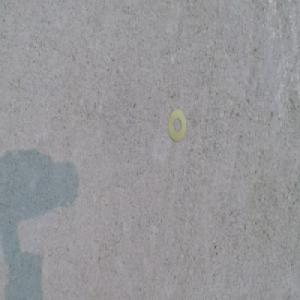Washer: (166, 109, 187, 143)
